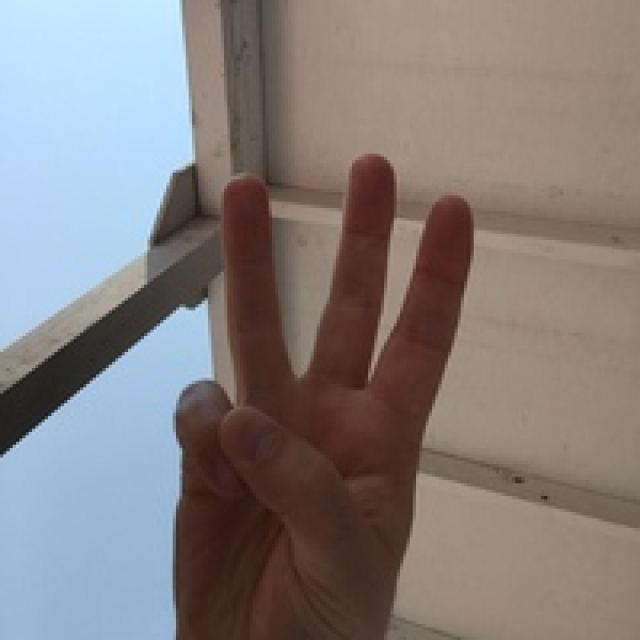W: (122, 115, 493, 640)
